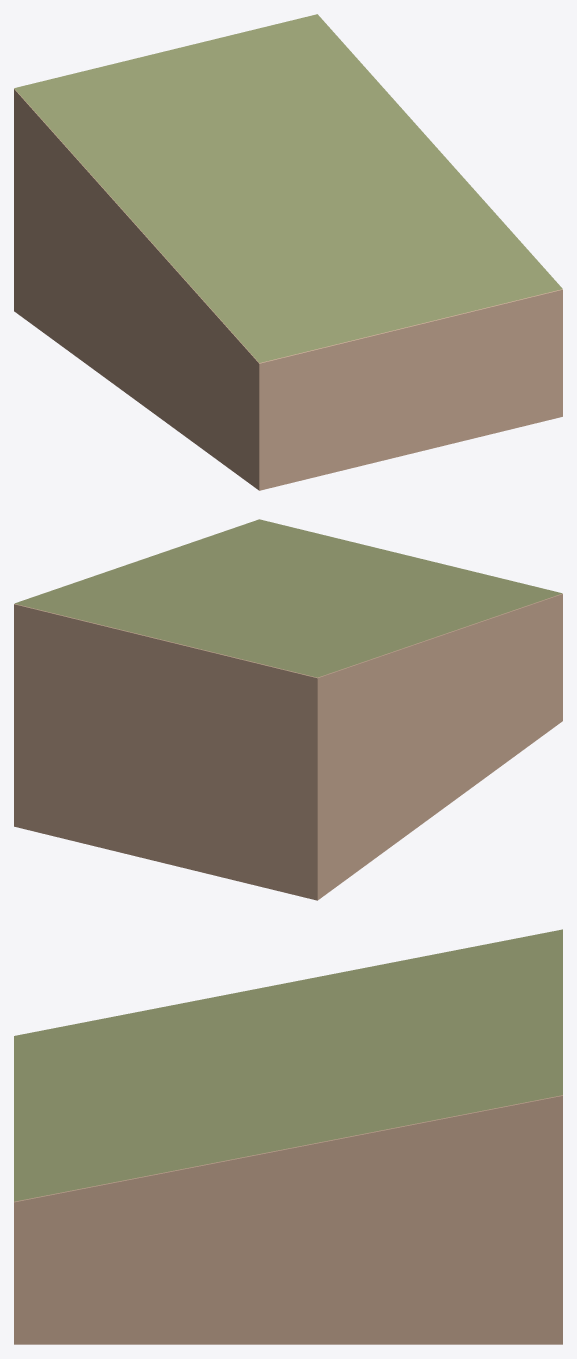
The model's file is terrain_slope.glb.
The picture shows the model from 3 angles, top to bottom: view 1: azimuth 30°, elevation 25°; view 2: azimuth 150°, elevation 25°; view 3: azimuth 270°, elevation 25°; orthographic projection. The views are drawn at different scales.
Visible parts, largest first — view 1: terrain_slope; view 2: terrain_slope; view 3: terrain_slope.
Part boxes in pixels (left/top/right/bottom): terrain_slope: left=14, top=14, right=562, bottom=490; terrain_slope: left=14, top=519, right=562, bottom=900; terrain_slope: left=14, top=929, right=562, bottom=1344.
Bounding box in the file's own units: 10 × 7.02 × 14.
